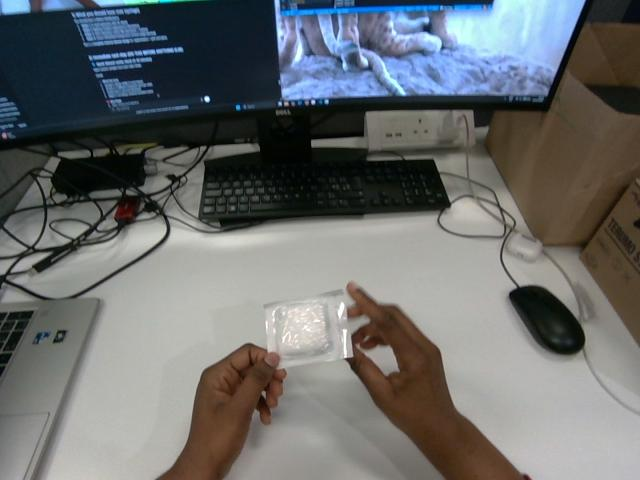gauze: (265, 290, 352, 367)
